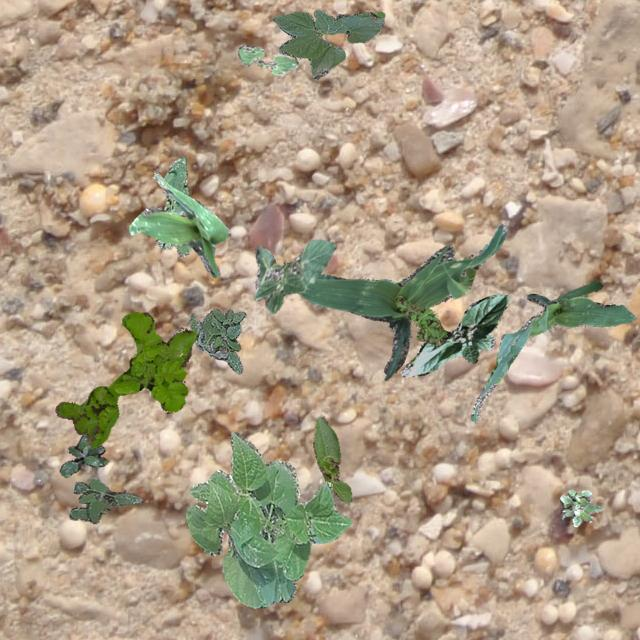crop: (298, 222, 506, 380), (184, 430, 350, 608), (470, 278, 636, 422), (128, 170, 230, 276), (400, 293, 508, 377), (272, 8, 383, 78), (254, 238, 336, 312), (312, 416, 351, 504), (238, 44, 296, 74)
weed: (55, 310, 196, 446), (188, 308, 245, 372), (156, 156, 190, 256), (68, 478, 142, 522), (394, 294, 446, 344), (58, 432, 106, 477), (558, 488, 600, 526)
